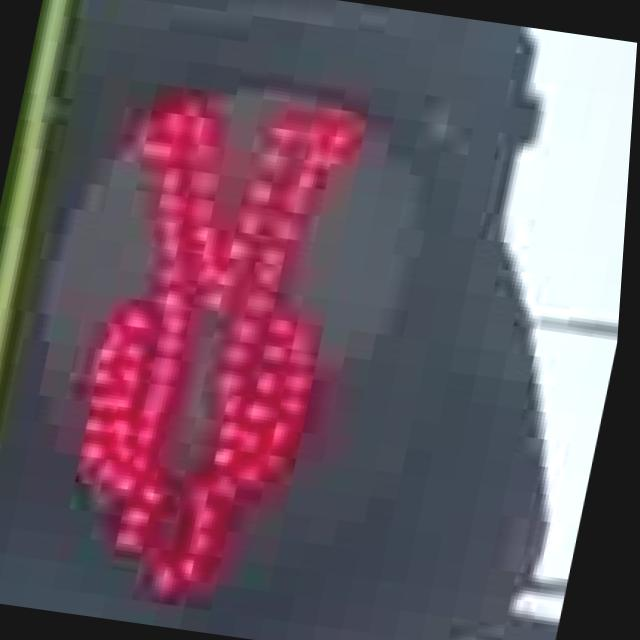red_light: (30, 69, 435, 639)
